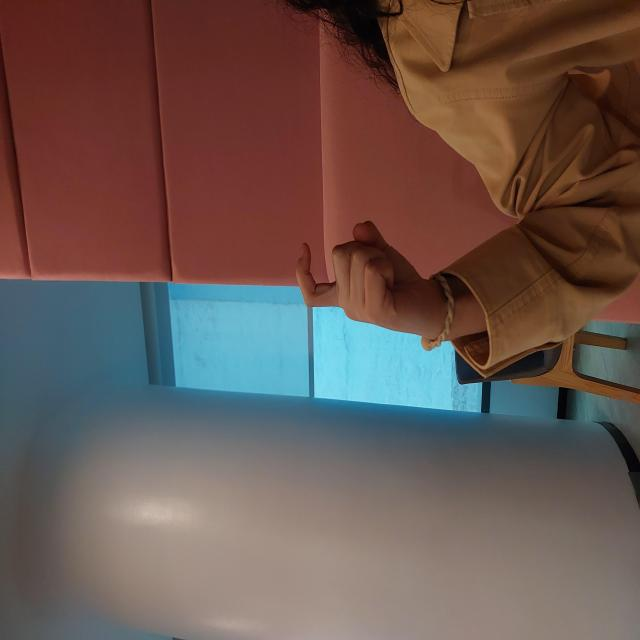X: (293, 290, 426, 453)
